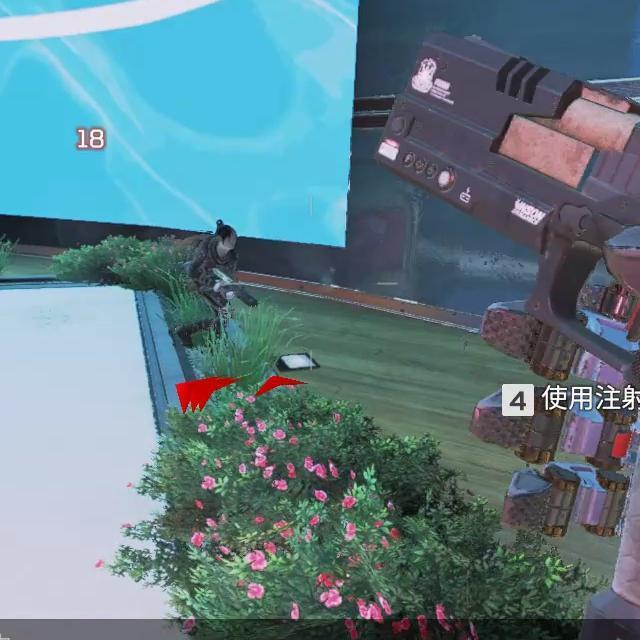avatar: (168, 217, 239, 353)
